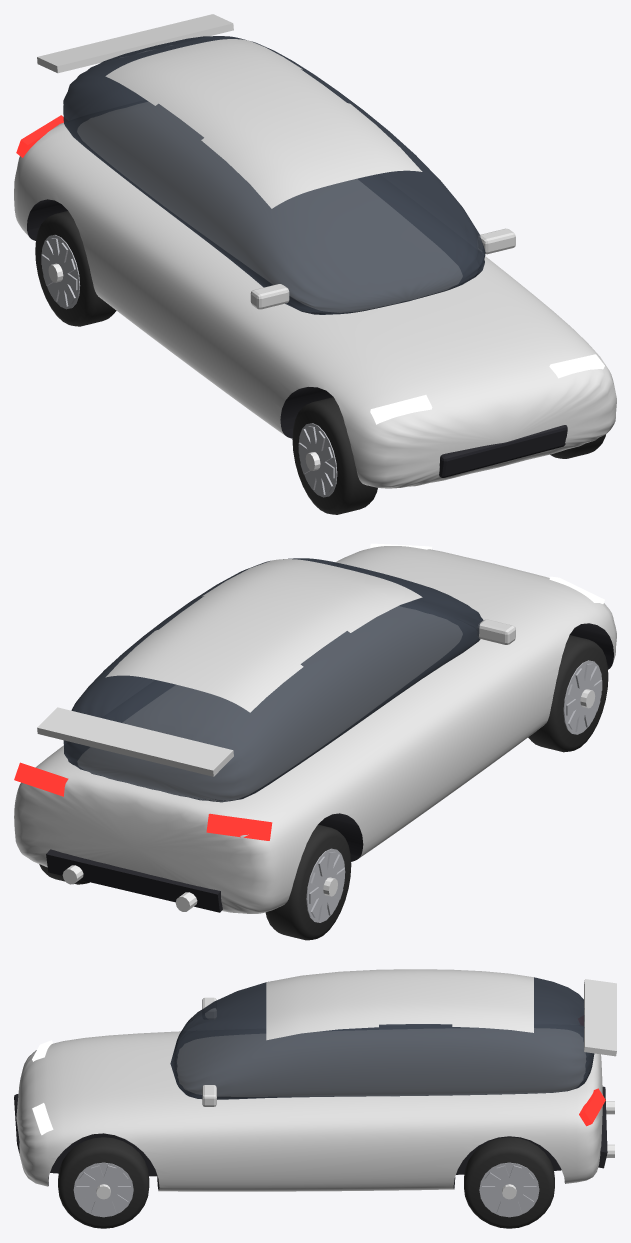
Rendered from metro.glb.
3 renders of one model, top to bottom at view 1: azimuth 30°, elevation 25°; view 2: azimuth 150°, elevation 25°; view 3: azimuth 270°, elevation 25°, orthographic. The views are drawn at different scales.
Parts seen in each view (by area): view 1: Car, Wheel_FL, Wheel_RL, Rim.002, Rim; view 2: Car, Wheel_RL, Wheel_FL, Rim.002, Rim; view 3: Car, Wheel_FR, Wheel_RR, Rim.003, Rim.001, Spoke.015, Spoke.005.
Part boxes in pixels (x1,y1,x2,y2): Car: (14,14,616,488); Wheel_FL: (292,397,377,514); Wheel_RL: (35,211,116,326); Rim.002: (41,235,80,309); Rim: (299,423,337,497); Car: (14,543,616,913); Wheel_RL: (265,824,351,940); Wheel_FL: (528,635,608,752); Rim.002: (306,848,345,922); Rim: (563,660,601,734); Car: (14,969,616,1191); Wheel_FR: (58,1137,149,1228); Wheel_RR: (464,1137,554,1228); Rim.003: (479,1162,539,1217); Rim.001: (73,1162,133,1217); Spoke.015: (482,1186,536,1194); Spoke.005: (76,1186,130,1194).
Bounding box in the file's own units: 1.74 × 1.44 × 4.1.
